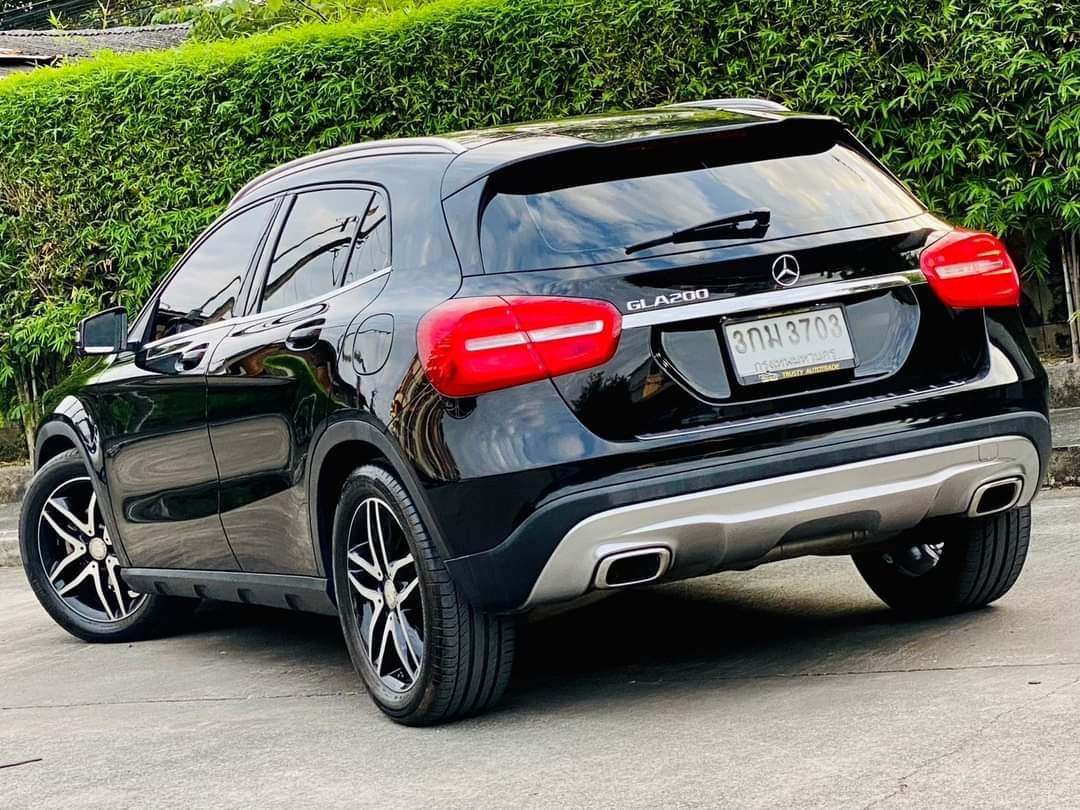license-plate: (710, 298, 860, 394)
